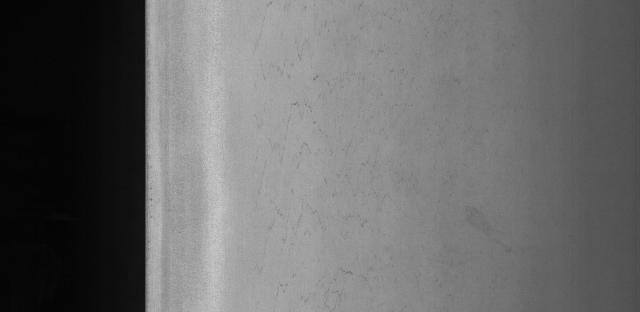silk_spot: (256, 8, 392, 265)
